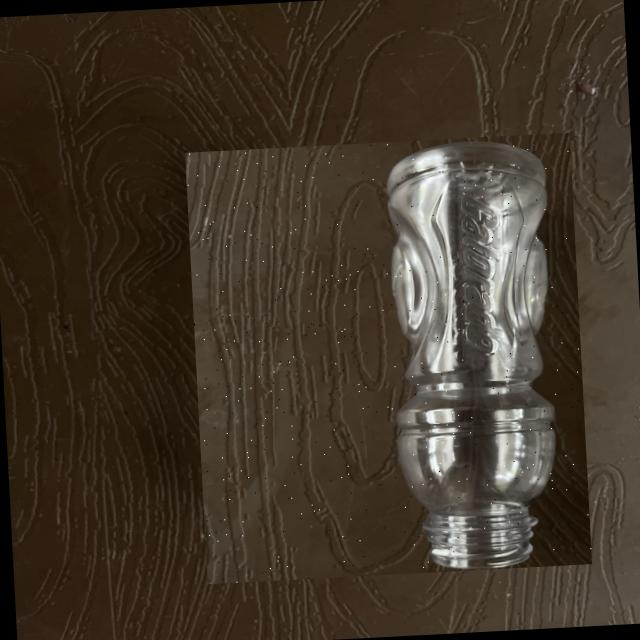PET_ClearBottle: (184, 132, 591, 584)
